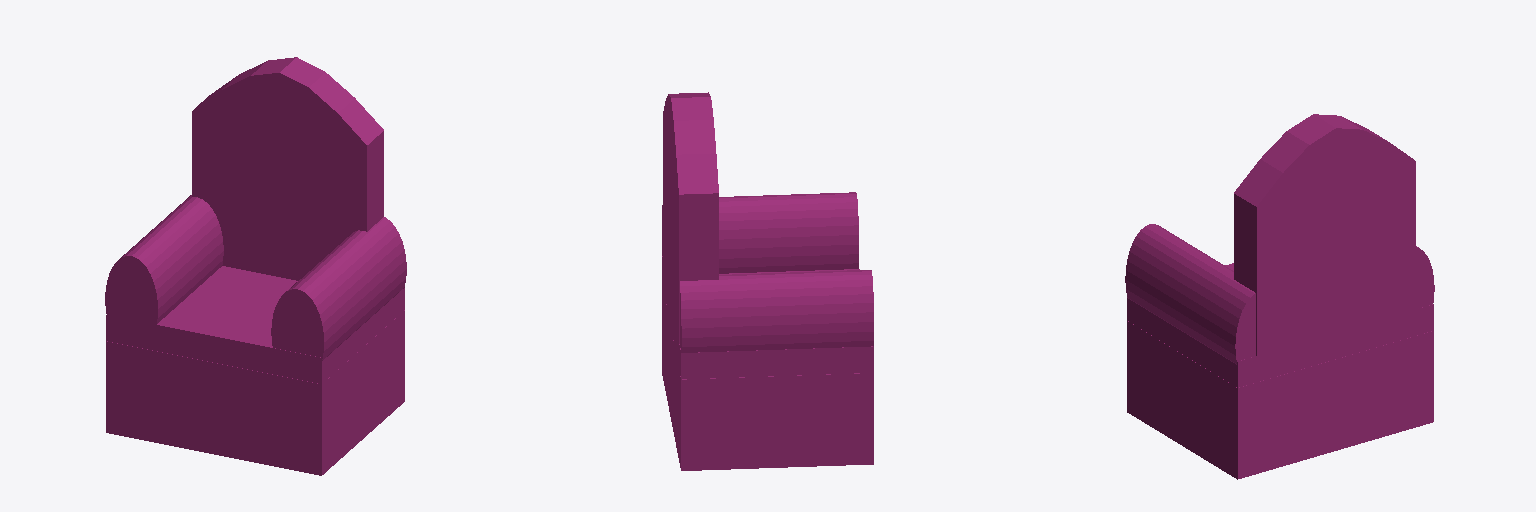
The picture shows the model from 3 angles: view 1: azimuth 30°, elevation 25°; view 2: azimuth 150°, elevation 25°; view 3: azimuth 270°, elevation 25°; orthographic projection.
Visible parts, largest first — view 1: Cube.021_Cube.035; view 2: Cube.021_Cube.035; view 3: Cube.021_Cube.035.
Part boxes in pixels (left/top/right/bottom): Cube.021_Cube.035: left=105, top=57, right=406, bottom=475; Cube.021_Cube.035: left=662, top=92, right=873, bottom=470; Cube.021_Cube.035: left=1125, top=114, right=1434, bottom=479.
Bounding box in the file's own units: 12.53 × 15.03 × 13.05.
Materials: 1 (1 with a texture image).